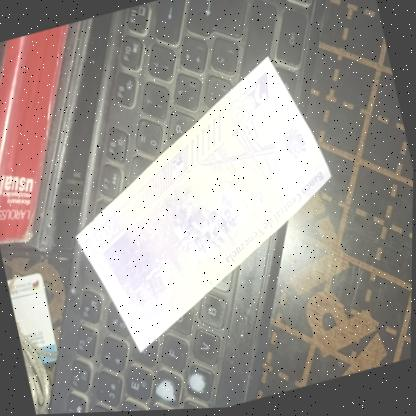two_hundred-back-vef: (45, 46, 362, 367)
